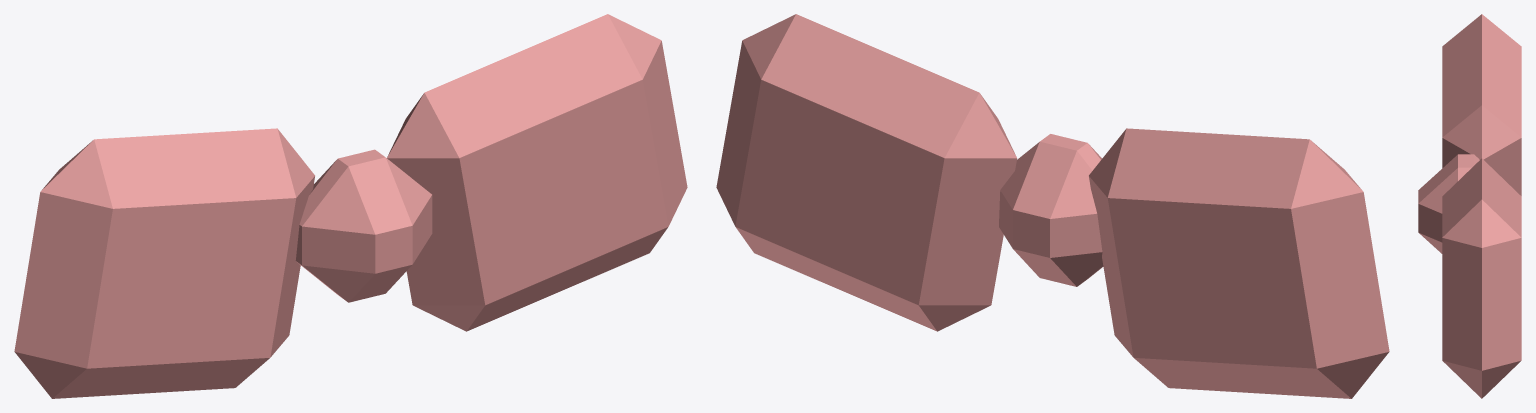
File: CatCafe_Accessory_BowTie.glb
The picture shows the model from 3 angles, left to right: view 1: azimuth 30°, elevation 25°; view 2: azimuth 150°, elevation 25°; view 3: azimuth 270°, elevation 25°; orthographic projection. The views are drawn at different scales.
Parts seen in each view (by area): view 1: CatCafe_Accessory_BowTie; view 2: CatCafe_Accessory_BowTie; view 3: CatCafe_Accessory_BowTie.
Boxes of the visible parts, box(x1,y1,x2,y2) form: CatCafe_Accessory_BowTie: box(14, 14, 687, 398); CatCafe_Accessory_BowTie: box(716, 14, 1389, 398); CatCafe_Accessory_BowTie: box(1418, 14, 1521, 398).
Bounding box in the file's own units: 0.6184 × 0.2486 × 0.1112.
Materials: 1 (1 with a texture image).
